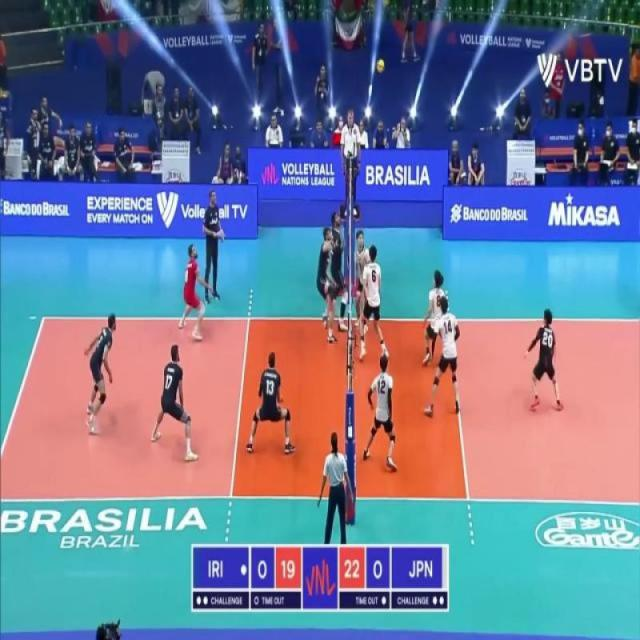volleyball: (376, 57, 386, 75), (0, 89, 7, 98)
